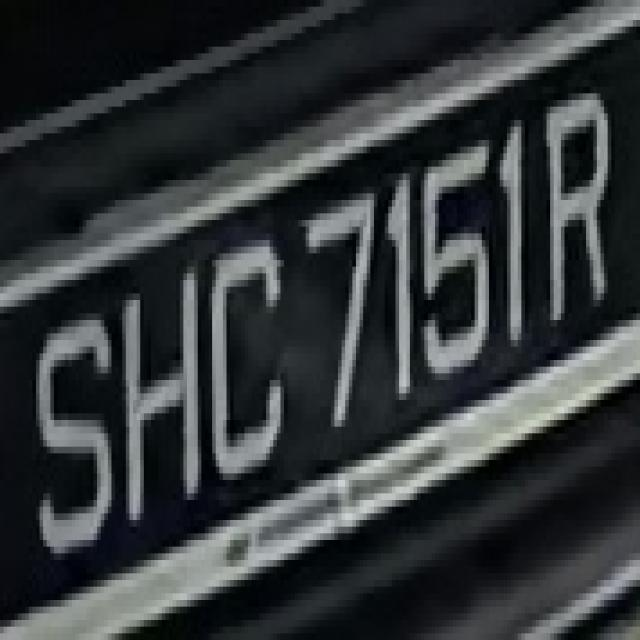1: (492, 86, 528, 366), (385, 140, 410, 420)
5: (414, 133, 496, 387)
7: (302, 153, 374, 447)
C: (212, 220, 288, 507)
H: (119, 260, 208, 533)
R: (536, 80, 615, 320)
S: (25, 294, 112, 574)
